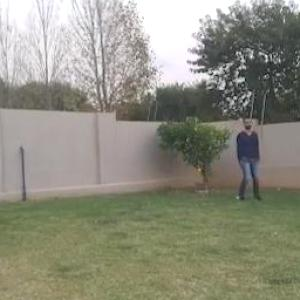follow: (238, 111, 260, 202)
